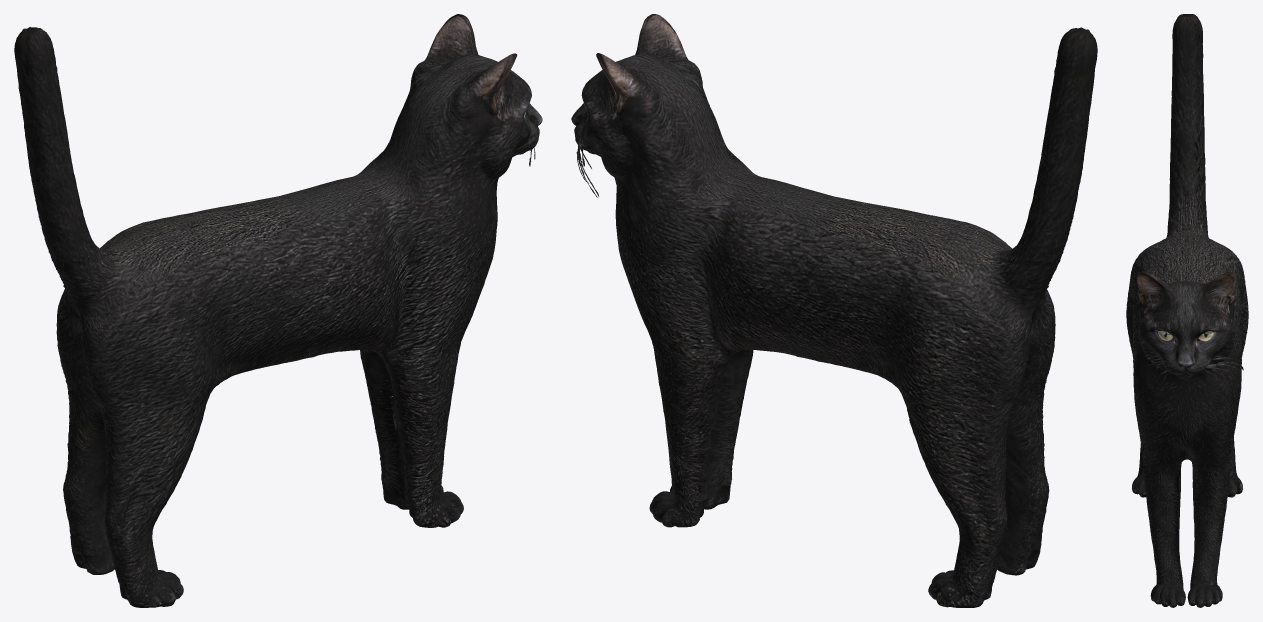
Rendered from KENCHAN.glb.
3 views of the same model, side by side, from view 1: azimuth 30°, elevation 25°; view 2: azimuth 150°, elevation 25°; view 3: azimuth 270°, elevation 25° (orthographic). The views are drawn at different scales.
Visible parts, largest first — view 1: tripo_node_56474adf-d663-4ae4-a575-79d68b3bb48f; view 2: tripo_node_56474adf-d663-4ae4-a575-79d68b3bb48f; view 3: tripo_node_56474adf-d663-4ae4-a575-79d68b3bb48f.
Boxes of the visible parts, x1=… form: tripo_node_56474adf-d663-4ae4-a575-79d68b3bb48f: x1=14, y1=14, x2=542, y2=607; tripo_node_56474adf-d663-4ae4-a575-79d68b3bb48f: x1=571, y1=14, x2=1097, y2=607; tripo_node_56474adf-d663-4ae4-a575-79d68b3bb48f: x1=1126, y1=14, x2=1248, y2=607.
Bounding box in the file's own units: 0.9472 × 0.9998 × 0.2517.
Materials: 1 (1 with a texture image).
